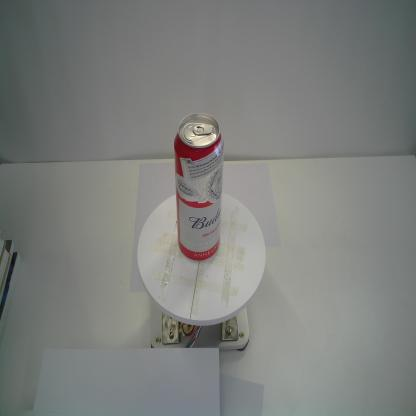Alcohol: (174, 112, 224, 262)
